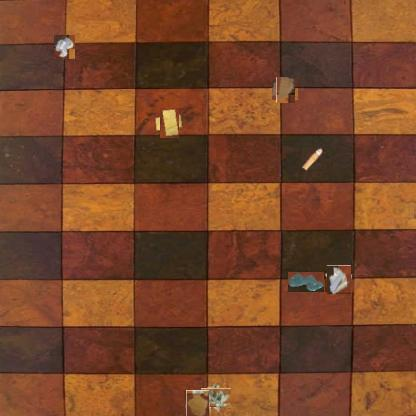dirty: (326, 267, 353, 293), (156, 111, 182, 135), (204, 386, 229, 410), (302, 148, 324, 174), (274, 79, 297, 102), (53, 36, 75, 58)
liquid: (288, 272, 324, 292), (184, 390, 210, 416)
